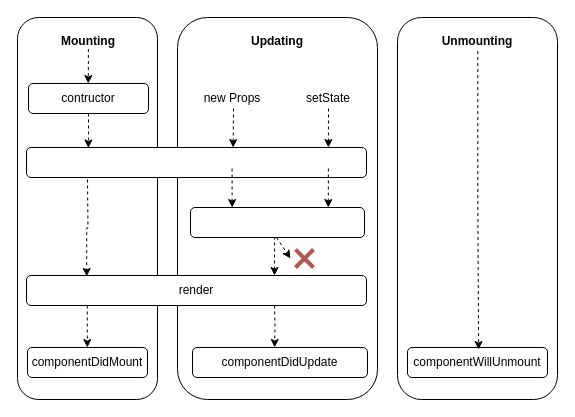
The diagram is 575 pixels wide and 417 high, and some of its shapes have lost their labels. The shapes that lost their labels are listed below. From the top down, each one's centre as x and y in pixels, then its label:
the point at 196,162: getDerivedStateFromProps
the point at 277,222: shouldComponentUpdate
